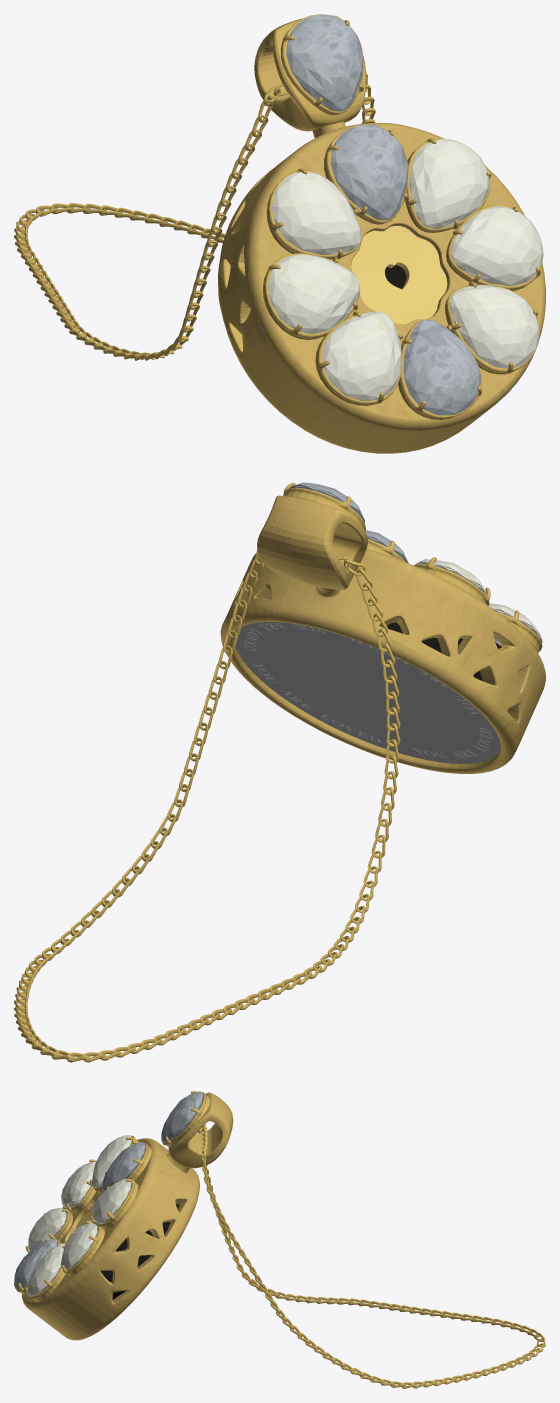
Rendered from xianglian.obj.
3 views of the same model, one above another, from view 1: azimuth 30°, elevation 25°; view 2: azimuth 150°, elevation 25°; view 3: azimuth 270°, elevation 25° (orthographic). The views are drawn at different scales.
Size of the model in its own units: 400 by 535 by 1005.
1 material, 1 textured.
